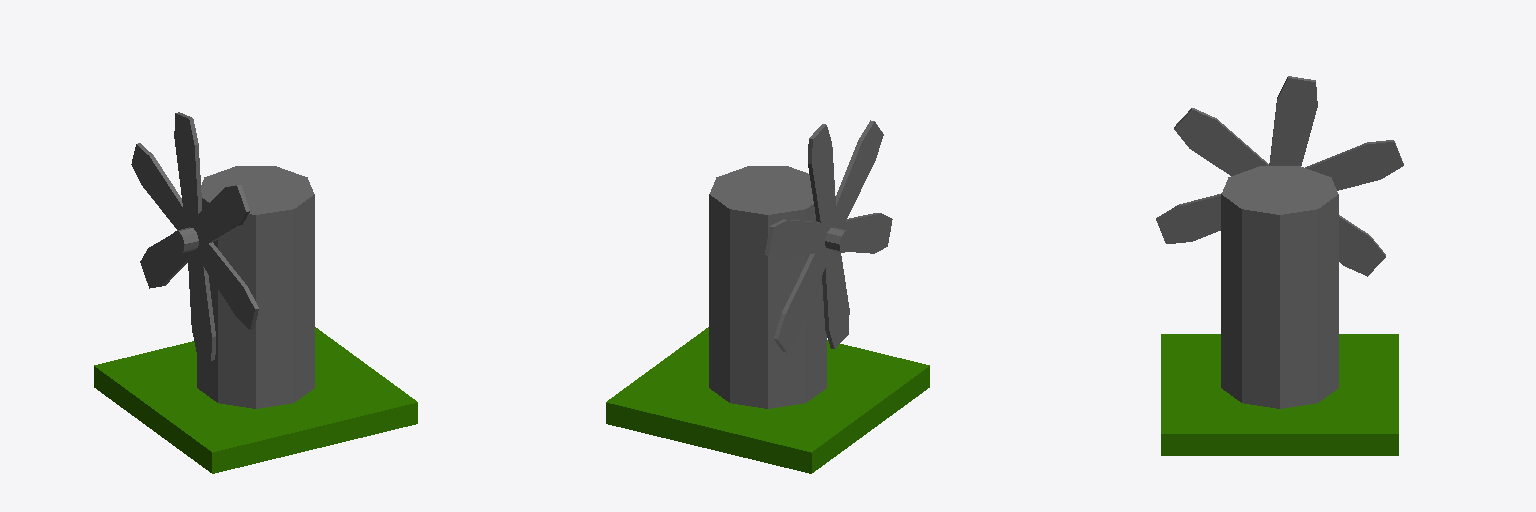
File: Farm2.obj
3 renders of one model, left to right at view 1: azimuth 30°, elevation 25°; view 2: azimuth 150°, elevation 25°; view 3: azimuth 270°, elevation 25°, orthographic.
Visible parts, largest first — view 1: Tilebase109, Cylinder042, Box705, Box707, Box704, Box708, Box706, Box703, Cylinder043; view 2: Cylinder042, Tilebase109, Box703, Box707, Box706, Box704, Box708, Box705, Cylinder043; view 3: Cylinder042, Tilebase109, Box707, Box706, Box708, Box705, Box703.
Part boxes in pixels (x1,y1,x2,y2): Tilebase109: (94,327,417,473); Cylinder042: (197,166,314,408); Box705: (195,232,258,329); Box707: (174,112,201,227); Box704: (187,250,215,360); Box708: (131,143,191,229); Box706: (192,185,249,243); Box703: (140,233,192,288); Cylinder043: (173,227,198,252); Cylinder042: (709,166,826,408); Tilebase109: (606,327,929,473); Box703: (774,237,831,352); Box707: (808,124,836,235); Box706: (833,120,883,228); Box704: (822,251,849,348); Box708: (765,219,828,260); Box705: (842,213,892,253); Cylinder043: (825,227,850,252); Cylinder042: (1221,166,1338,408); Tilebase109: (1161,334,1398,455); Box707: (1269,76,1317,165); Box706: (1174,108,1268,175); Box708: (1305,140,1403,190); Box705: (1156,193,1221,243); Box703: (1339,215,1385,276).
Size of the model in its own units: 10 by 13.87 by 10.41.